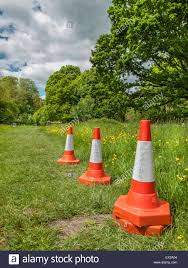cone: (112, 118, 171, 237), (76, 127, 112, 185), (56, 127, 81, 164)
